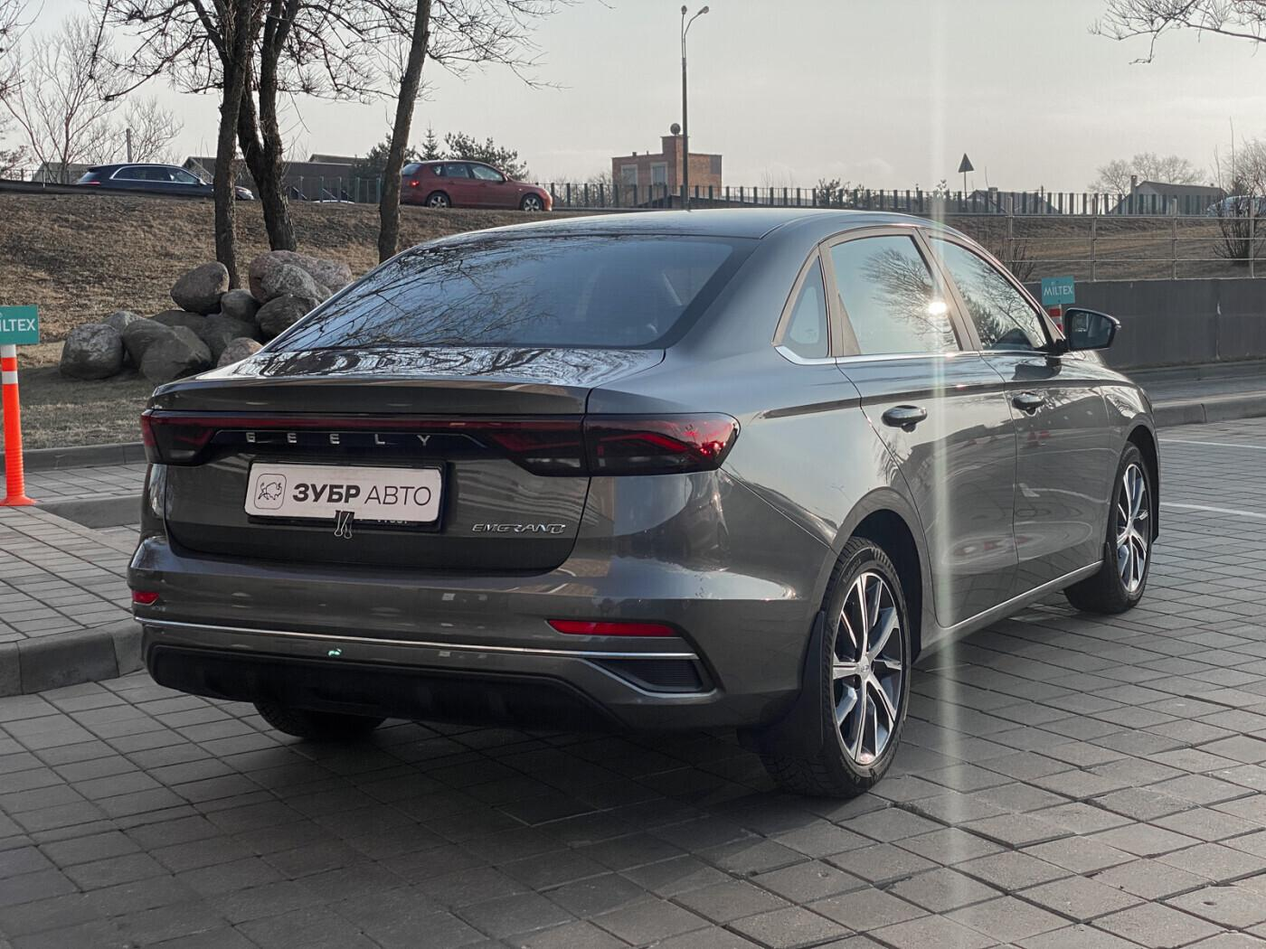Emgrand_2021: (111, 200, 1134, 791)
